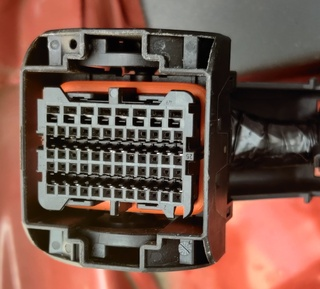connector: (19, 28, 231, 273)
